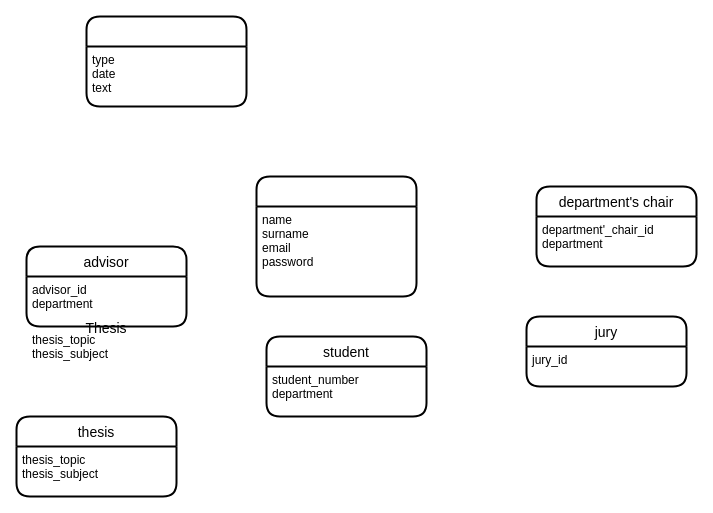
The diagram is 713 pixels wide and 513 high, and some of its shapes have lost their labels. Here are the shapes that lost their labels. From the top down, the box of each, then its label:
(85, 15, 247, 107): notification
(255, 175, 417, 297): user
